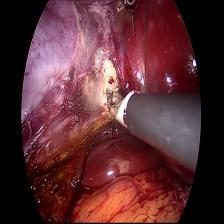Hook: (103, 81, 137, 135)
